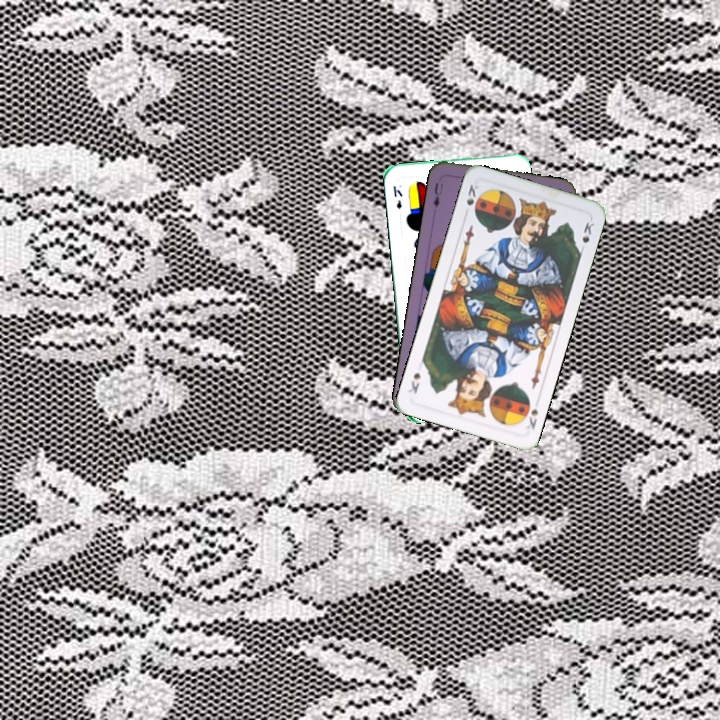EK: (389, 182, 405, 211)
EU: (429, 179, 446, 210)
SK: (462, 180, 482, 208), (521, 405, 541, 432)
